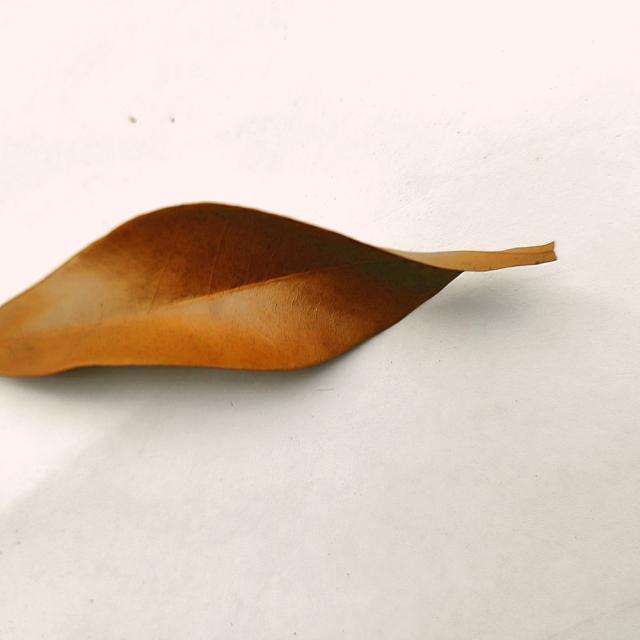Dry_Leaf-Lychee: (0, 204, 558, 381)
